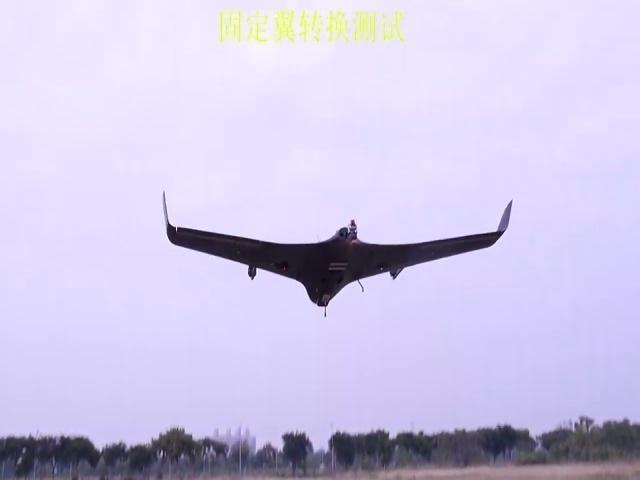Airplane: (162, 189, 513, 317)
